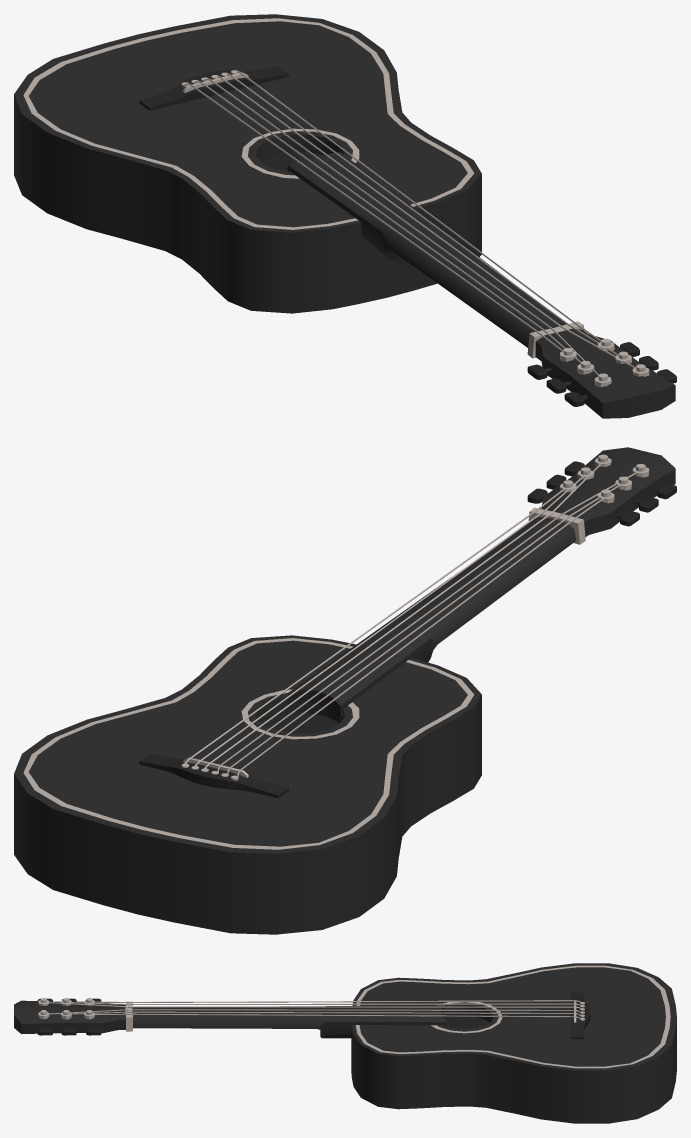
The model's file is AcousticGuitar_02.fbx.
3 views of the same model, one above another, from view 1: azimuth 30°, elevation 25°; view 2: azimuth 150°, elevation 25°; view 3: azimuth 270°, elevation 25° (orthographic). The views are drawn at different scales.
Visible parts, largest first — view 1: AcousticGuitar_02; view 2: AcousticGuitar_02; view 3: AcousticGuitar_02.
Part boxes in pixels (<box>): AcousticGuitar_02: <box>14,14,676,418</box>; AcousticGuitar_02: <box>14,447,676,934</box>; AcousticGuitar_02: <box>14,963,676,1123</box>.
Size of the model in its own units: 0.4688 by 0.1313 by 1.22.
